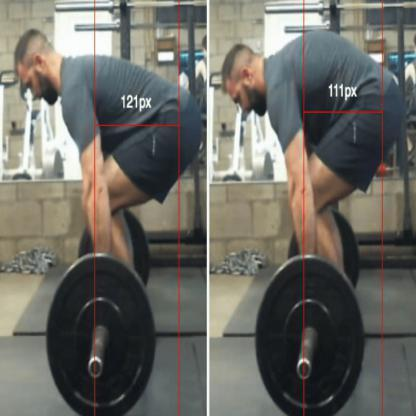barbell: (44, 206, 157, 416), (253, 254, 367, 416)
